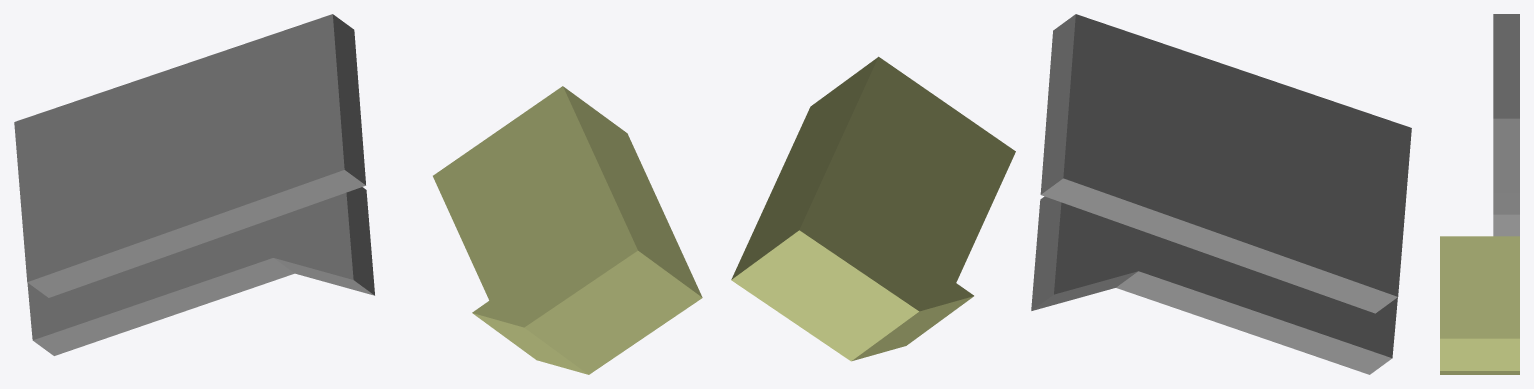
3 renders of one model, left to right at view 1: azimuth 30°, elevation 25°; view 2: azimuth 150°, elevation 25°; view 3: azimuth 270°, elevation 25°, orthographic. The views are drawn at different scales.
Parts seen in each view (by area): view 1: 0_1_0_2_1_3_2_1_3; view 2: 0_1_0_2_1_3_2_1_3; view 3: 0_1_0_2_1_3_2_1_3.
Boxes of the visible parts, left/top/right/bottom form: 0_1_0_2_1_3_2_1_3: left=14, top=14, right=702, bottom=374; 0_1_0_2_1_3_2_1_3: left=731, top=14, right=1411, bottom=374; 0_1_0_2_1_3_2_1_3: left=1440, top=14, right=1519, bottom=374.
Bounding box in the file's own units: 50.1 × 27.66 × 9.
